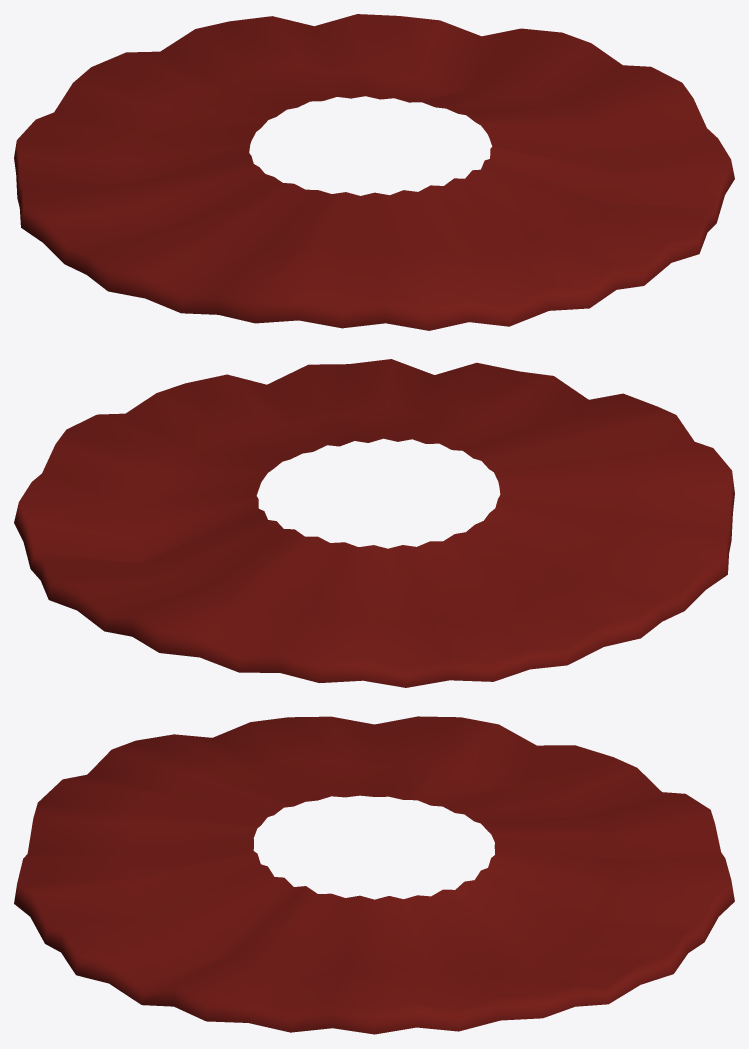
Rendered from ClownCollar.fbx.
The picture shows the model from 3 angles, top to bottom: view 1: azimuth 30°, elevation 25°; view 2: azimuth 150°, elevation 25°; view 3: azimuth 270°, elevation 25°; orthographic projection.
Parts seen in each view (by area): view 1: Collar5; view 2: Collar5; view 3: Collar5.
Boxes of the visible parts, box(x1,y1,x2,y2) form: Collar5: box(14, 14, 734, 330); Collar5: box(14, 359, 734, 687); Collar5: box(14, 716, 734, 1034).
Size of the model in its own units: 37.08 by 3.31 by 37.37.
